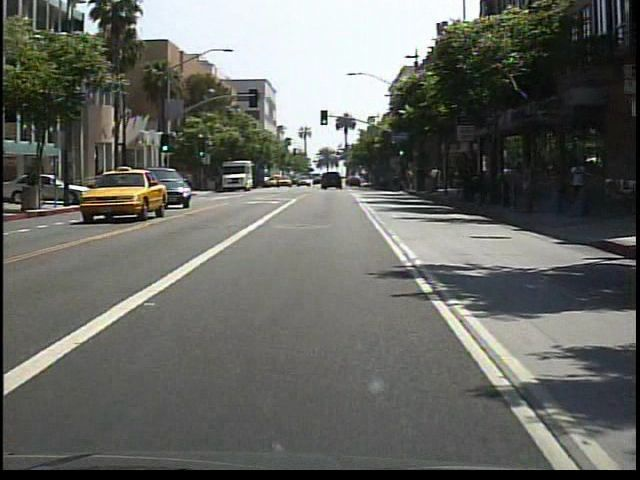person: (568, 154, 592, 192)
